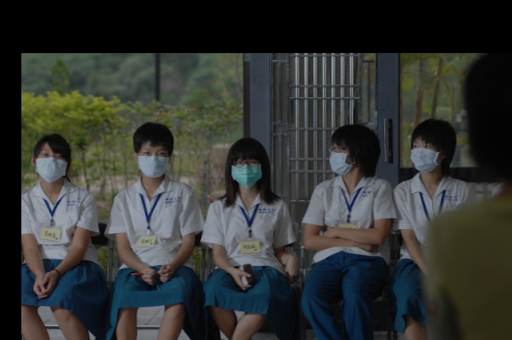with_mask: (35, 148, 66, 184), (137, 146, 168, 179), (409, 140, 439, 174), (231, 158, 262, 190), (328, 145, 353, 176)
